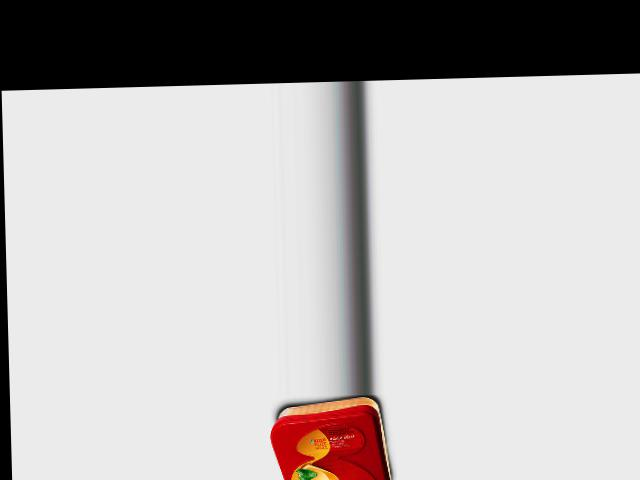cheese: (269, 396, 392, 480)
